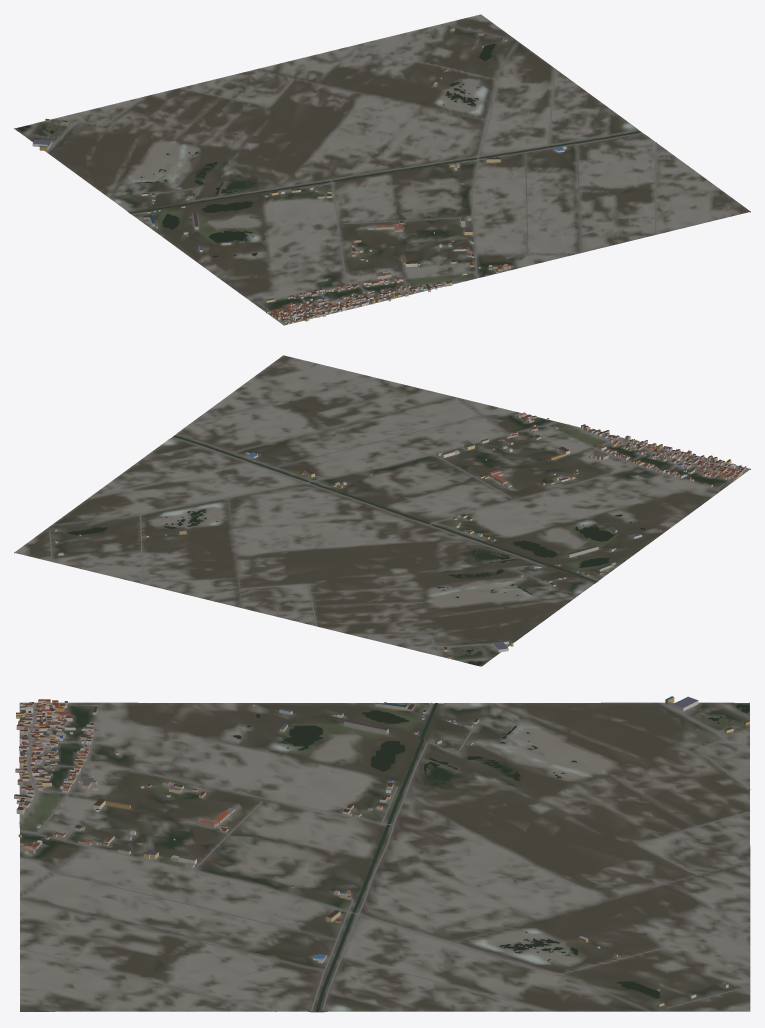
3 views of the same model, one above another, from view 1: azimuth 30°, elevation 25°; view 2: azimuth 150°, elevation 25°; view 3: azimuth 270°, elevation 25° (orthographic). The views are drawn at different scales.
Visible parts, largest first — view 1: ground, buildings, roads, water; view 2: ground, buildings, roads, water; view 3: ground, buildings, roads, water.
Boxes of the visible parts, left/top/right/bottom form: ground: left=14, top=14, right=750, bottom=325; buildings: left=32, top=27, right=566, bottom=324; roads: left=46, top=21, right=656, bottom=324; water: left=17, top=44, right=641, bottom=257; ground: left=14, top=355, right=750, bottom=666; buildings: left=54, top=412, right=746, bottom=658; roads: left=43, top=378, right=747, bottom=647; water: left=67, top=435, right=645, bottom=665; ground: left=19, top=702, right=750, bottom=1012; buildings: left=14, top=696, right=749, bottom=1006; roads: left=19, top=702, right=750, bottom=1011; water: left=233, top=703, right=749, bottom=1011.
Bounding box in the file's own units: 1417 × 15.39 × 1415.
